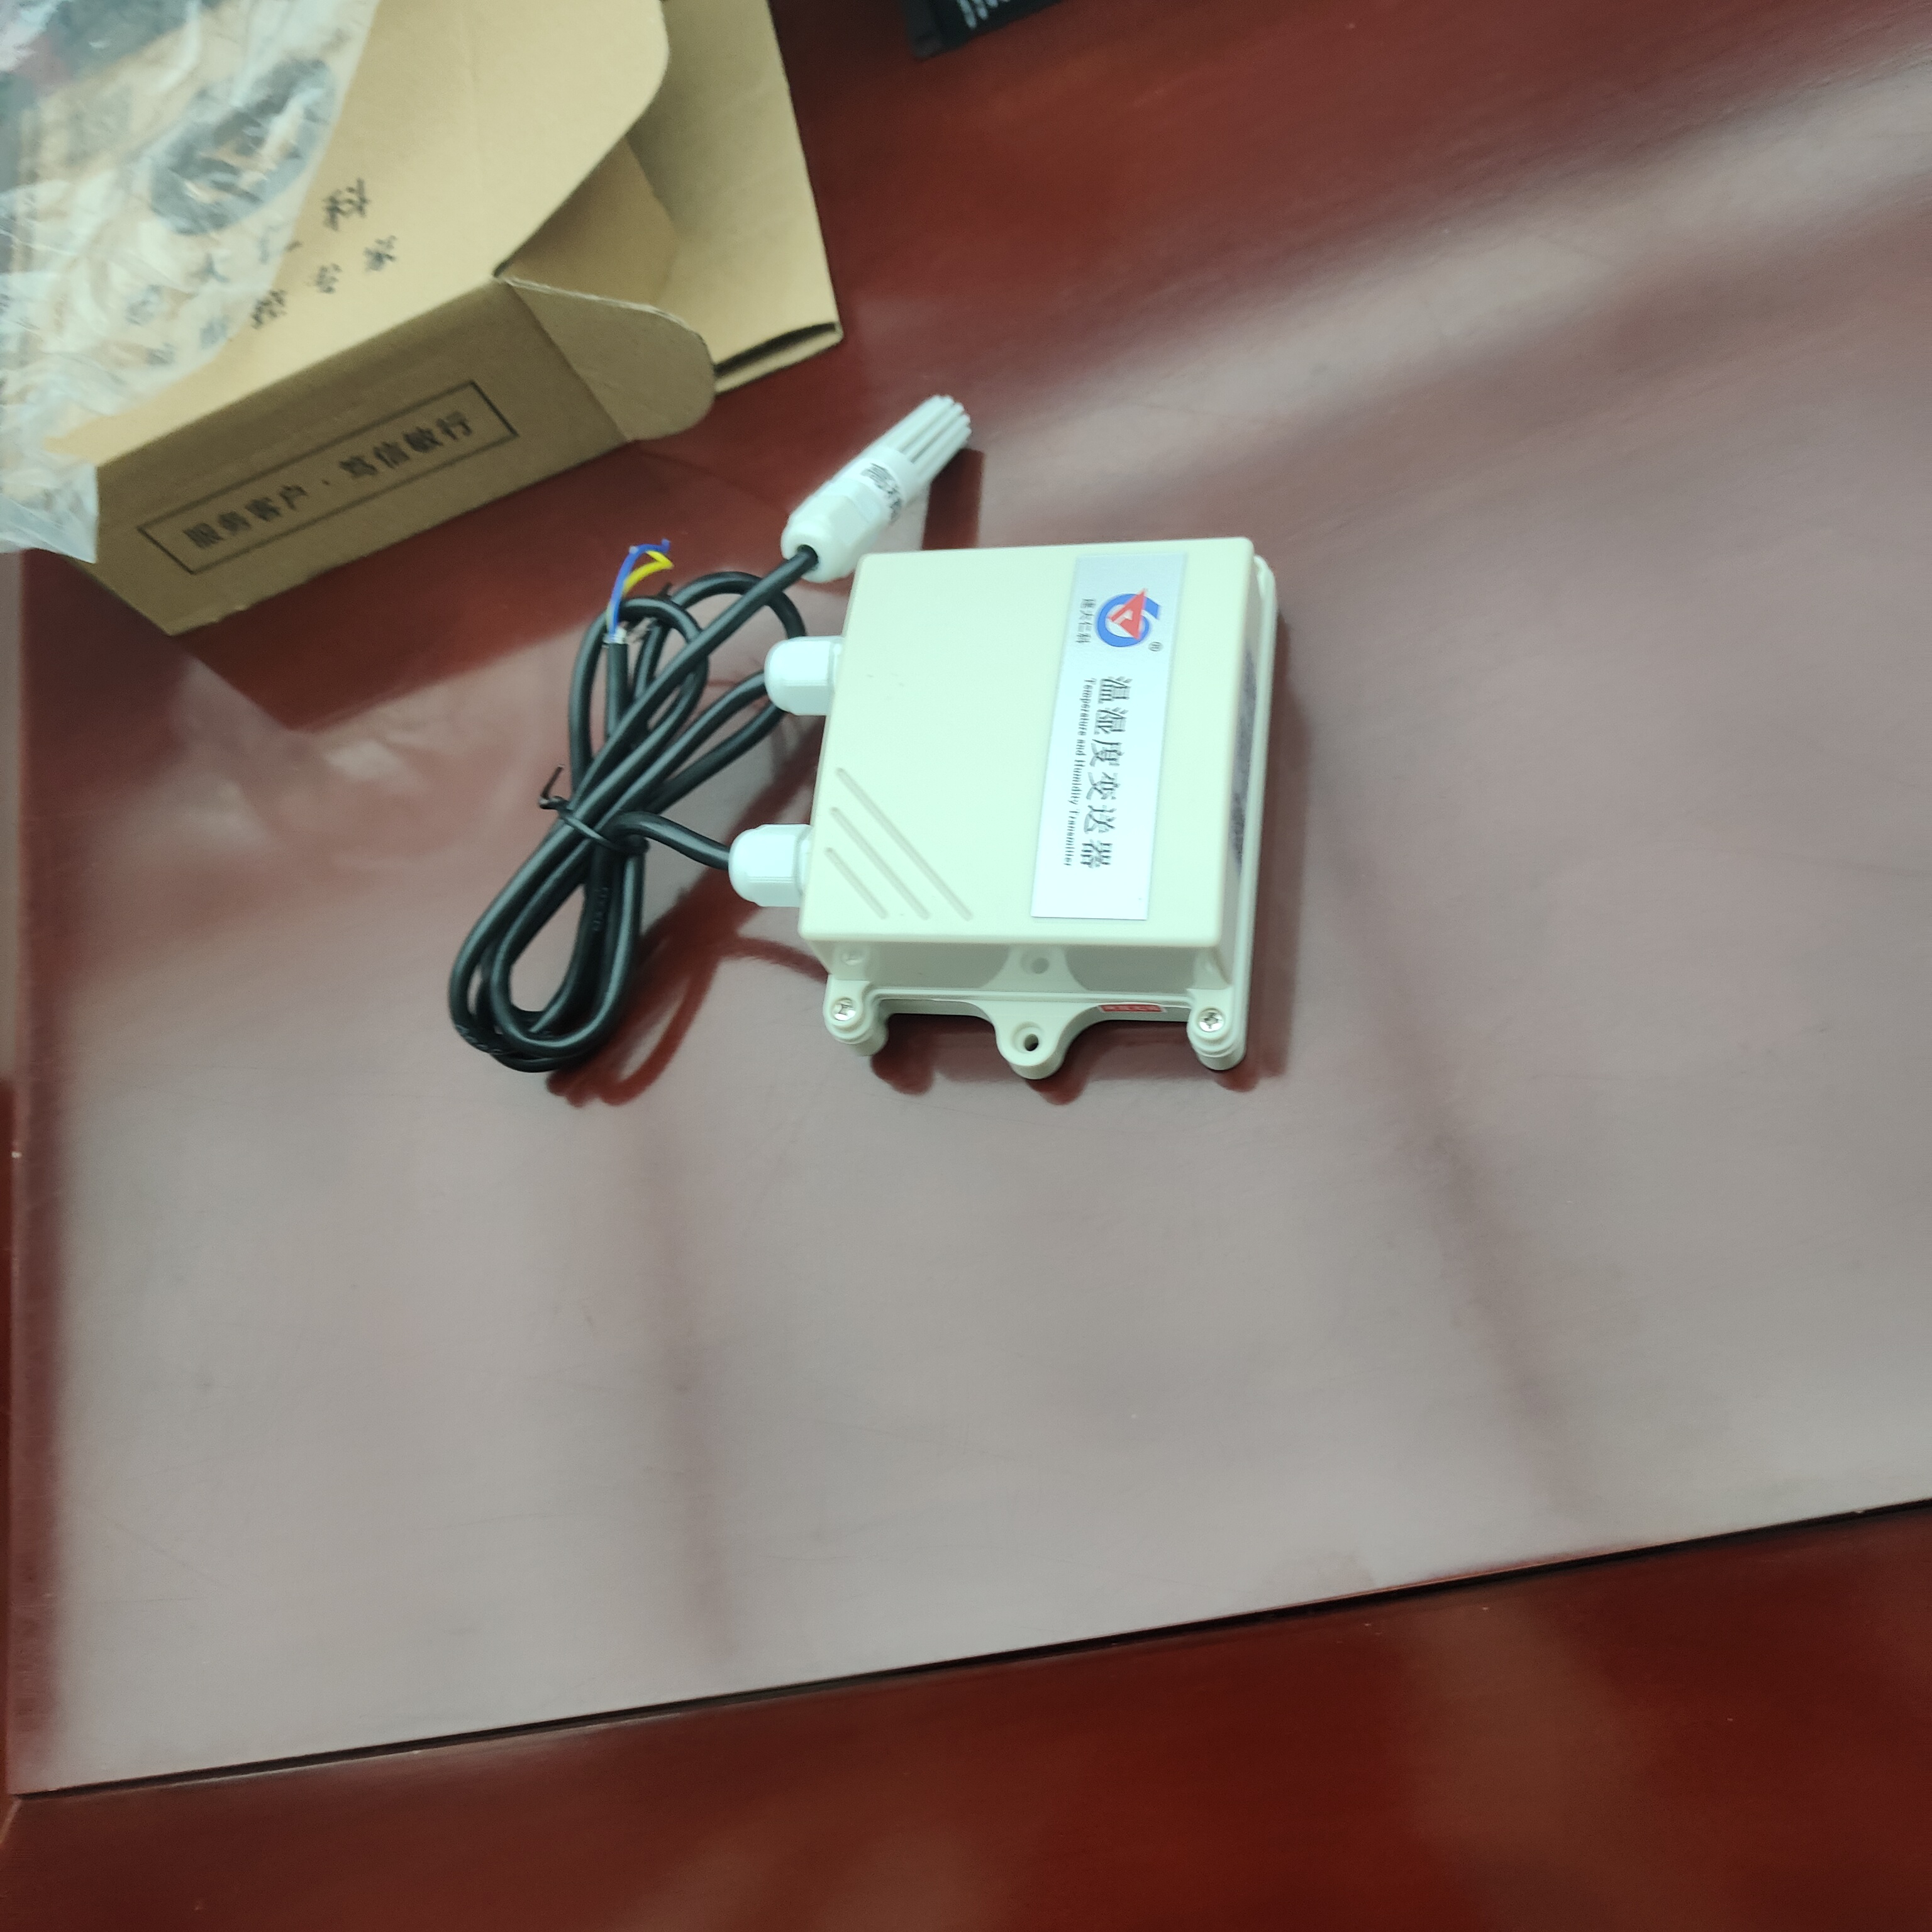wsdbsq: (755, 504, 1341, 1116)
